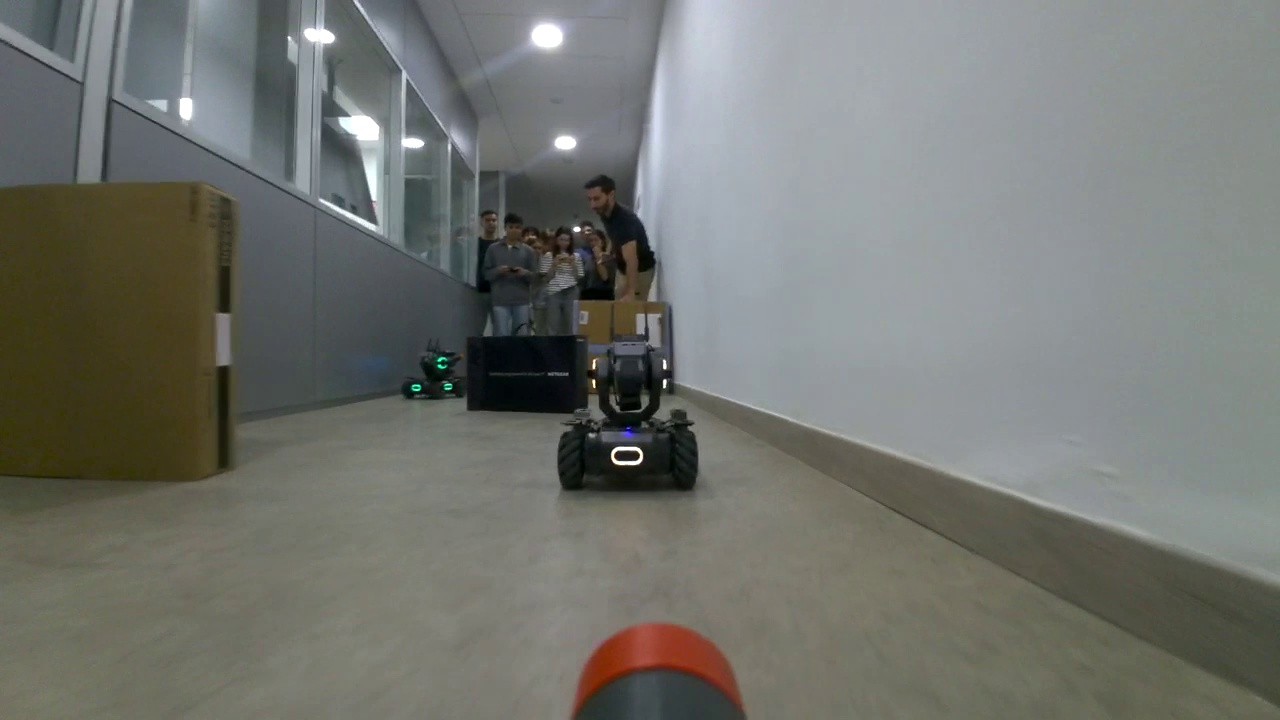robot: (556, 326, 702, 492), (396, 346, 465, 403)
